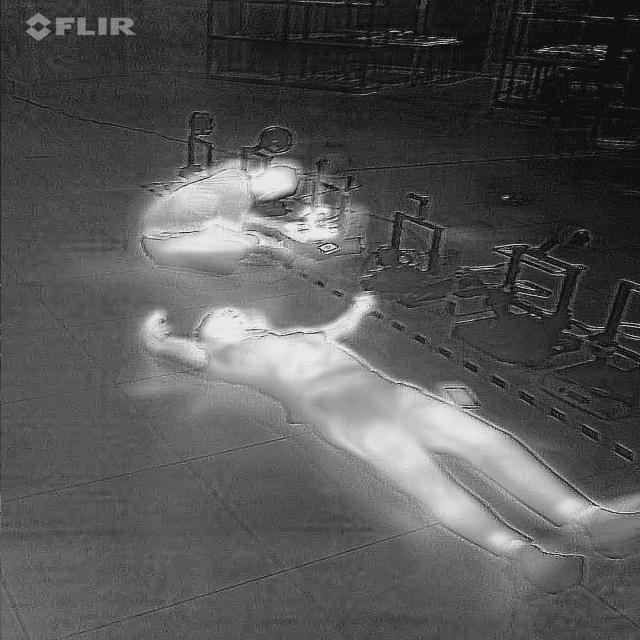Victim: (128, 286, 636, 600), (125, 153, 328, 272)
